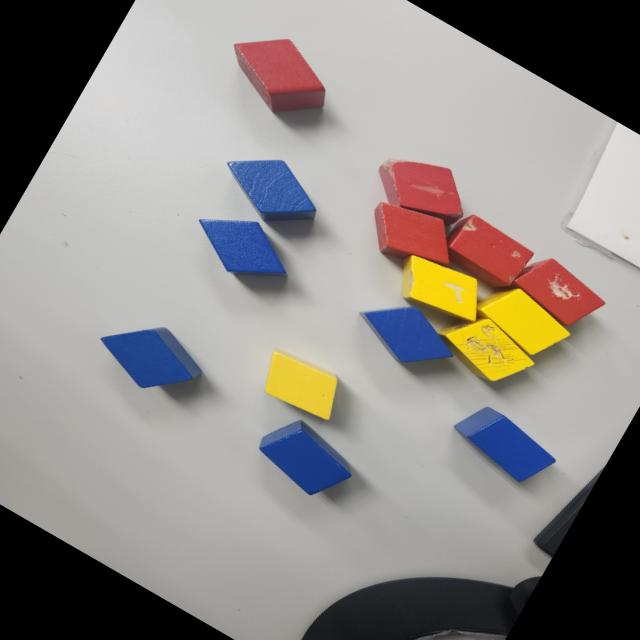blue: (88, 301, 214, 412), (210, 136, 332, 244), (182, 193, 304, 300), (246, 406, 368, 512), (347, 283, 468, 386), (445, 395, 564, 495)
broken: (425, 297, 544, 398), (366, 138, 480, 240), (386, 242, 494, 336), (505, 246, 612, 340), (435, 208, 539, 300)
red: (212, 16, 344, 134), (355, 186, 467, 286)
yellow: (464, 273, 578, 370), (254, 342, 350, 427)
